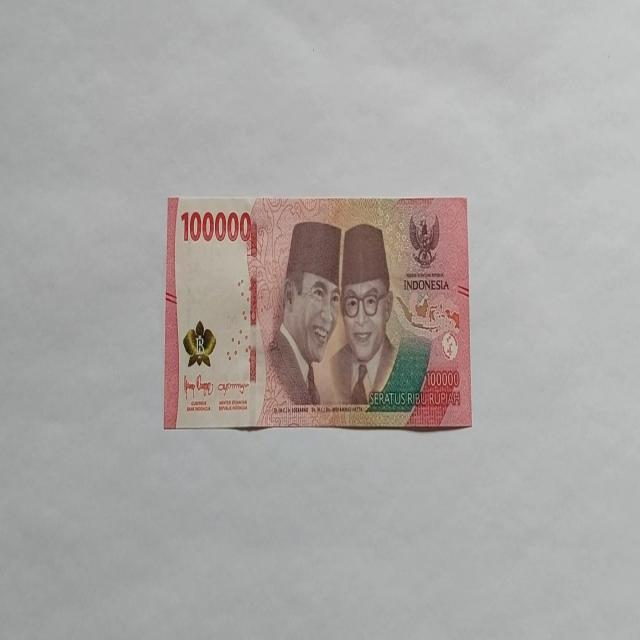seratus ribu rupiah: (164, 194, 472, 432)
